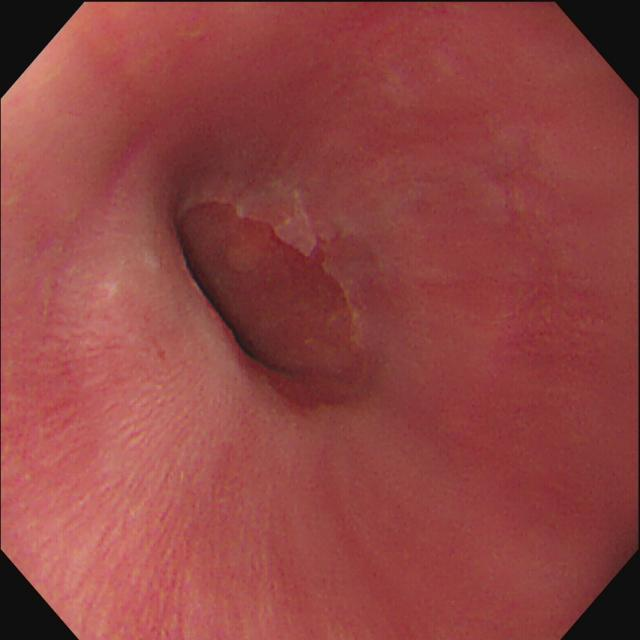I: (161, 172, 376, 420)
